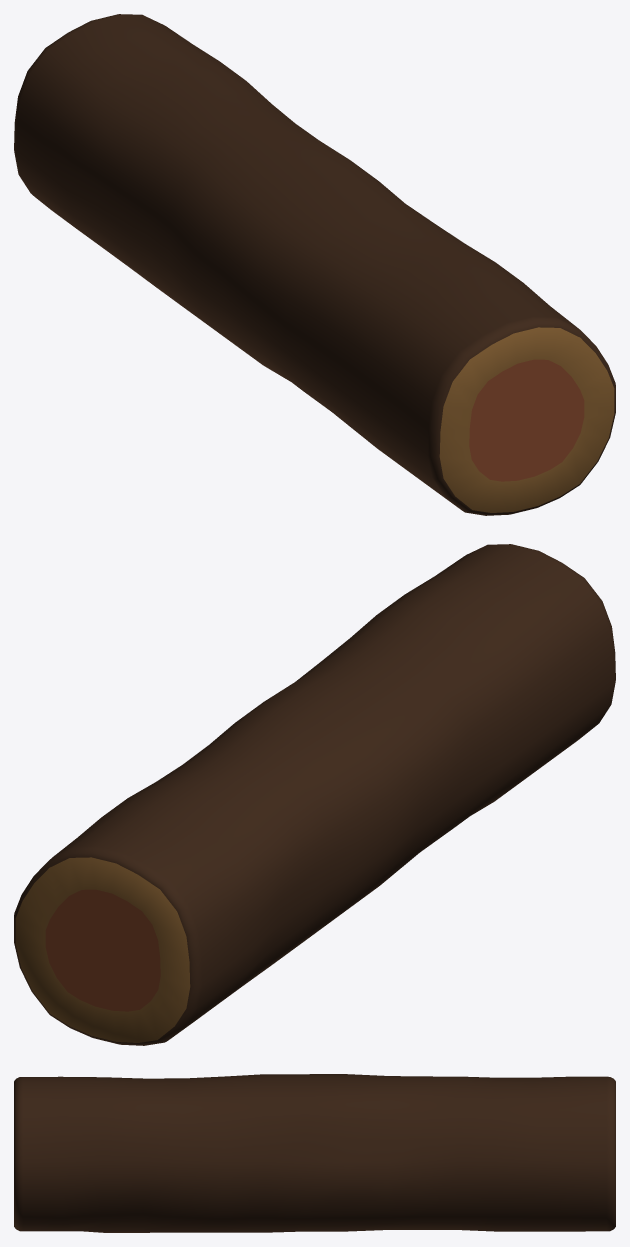
Rendered from log-2.obj.
The picture shows the model from 3 angles, top to bottom: view 1: azimuth 30°, elevation 25°; view 2: azimuth 150°, elevation 25°; view 3: azimuth 270°, elevation 25°; orthographic projection. The views are drawn at different scales.
Parts seen in each view (by area): view 1: Log_Cylinder; view 2: Log_Cylinder; view 3: Log_Cylinder.
Boxes of the visible parts, x1,y1,x2,y2 form: Log_Cylinder: [14, 14, 615, 515]; Log_Cylinder: [14, 544, 615, 1045]; Log_Cylinder: [14, 1074, 615, 1232].
Size of the model in its own units: 0.2627 by 0.2509 by 0.9866.
